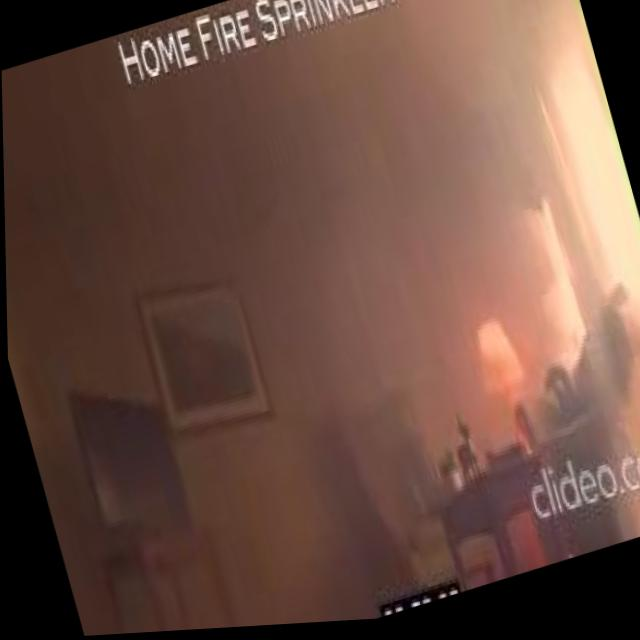fire: (511, 428, 529, 463)
